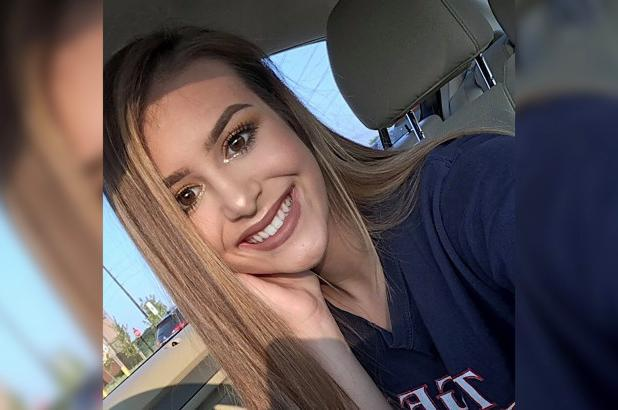face: (136, 64, 328, 272)
